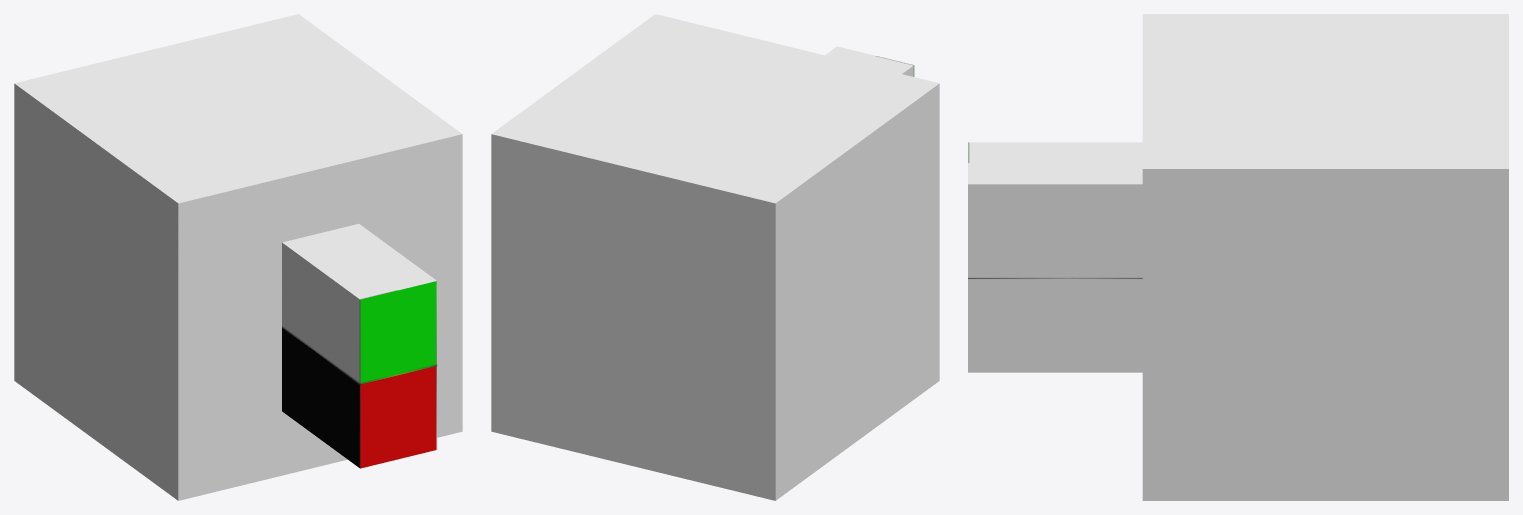
The model's file is Debug.obj.
3 views of the same model, side by side, from view 1: azimuth 30°, elevation 25°; view 2: azimuth 150°, elevation 25°; view 3: azimuth 270°, elevation 25° (orthographic). The views are drawn at different scales.
Parts seen in each view (by area): view 1: 立方体; view 2: 立方体; view 3: 立方体.
Boxes of the visible parts, box(x1,y1,x2,y2) form: 立方体: box(14, 14, 462, 500); 立方体: box(491, 14, 939, 500); 立方体: box(968, 14, 1508, 500).
Bounding box in the file's own units: 2 × 2 × 2.95.
Materials: 1 (1 with a texture image).
